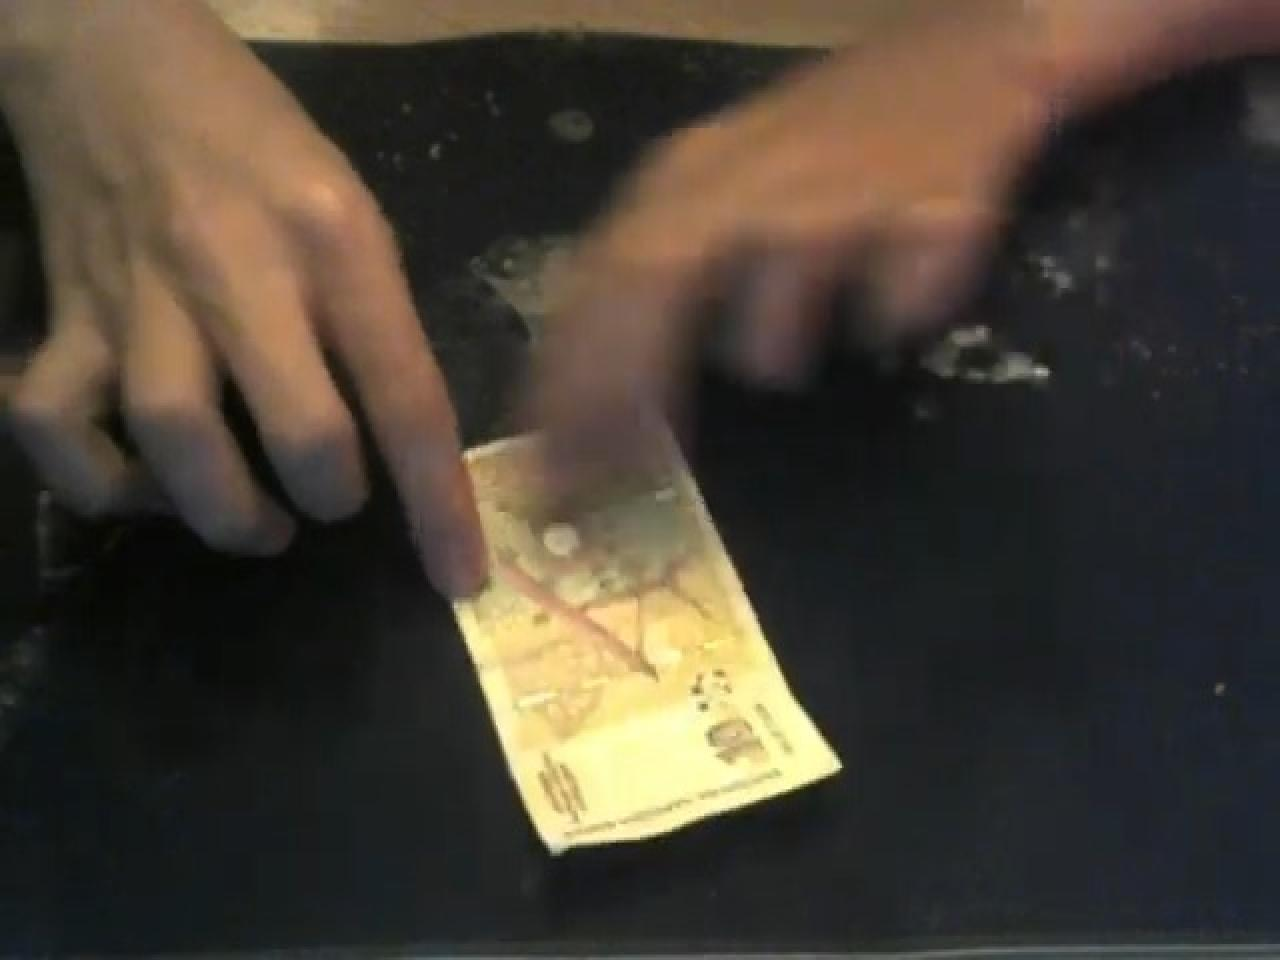10leva: (447, 410, 840, 856)
